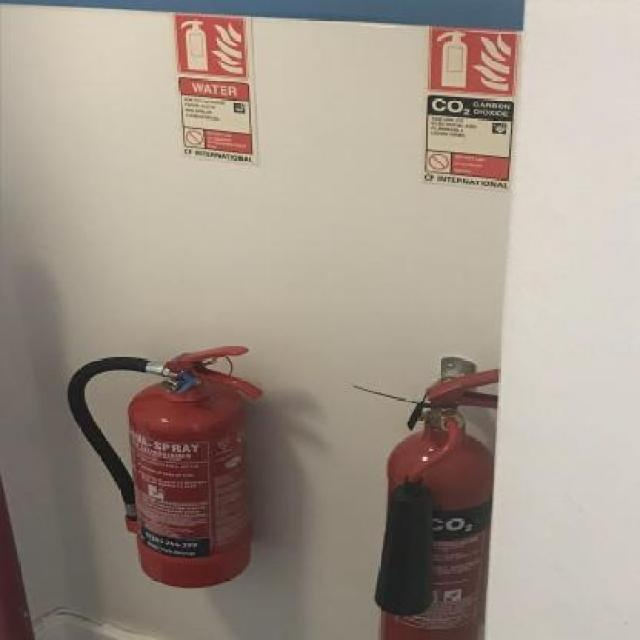fire extinguisher: (69, 346, 260, 588), (376, 367, 503, 640)
